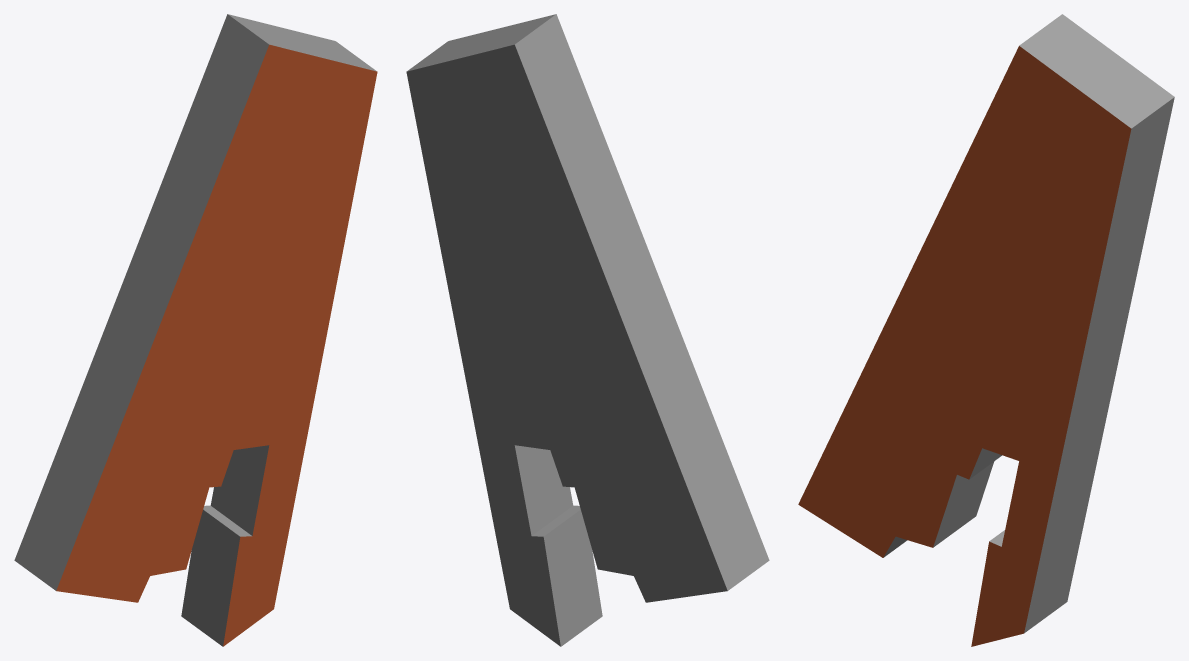
The model's file is construction_2216_assumed_A_Casa_h6m.obj.
The picture shows the model from 3 angles, left to right: view 1: azimuth 30°, elevation 25°; view 2: azimuth 150°, elevation 25°; view 3: azimuth 330°, elevation 25°; orthographic projection. The views are drawn at different scales.
Visible parts, largest first — view 1: construction_2216_assumed_A_Casa; view 2: construction_2216_assumed_A_Casa; view 3: construction_2216_assumed_A_Casa.
Boxes of the visible parts, x1,y1,x2,y2 form: construction_2216_assumed_A_Casa: (14,14,377,646); construction_2216_assumed_A_Casa: (406,14,769,646); construction_2216_assumed_A_Casa: (798,14,1174,646).
Size of the model in its own units: 26.63 by 46.81 by 6.
